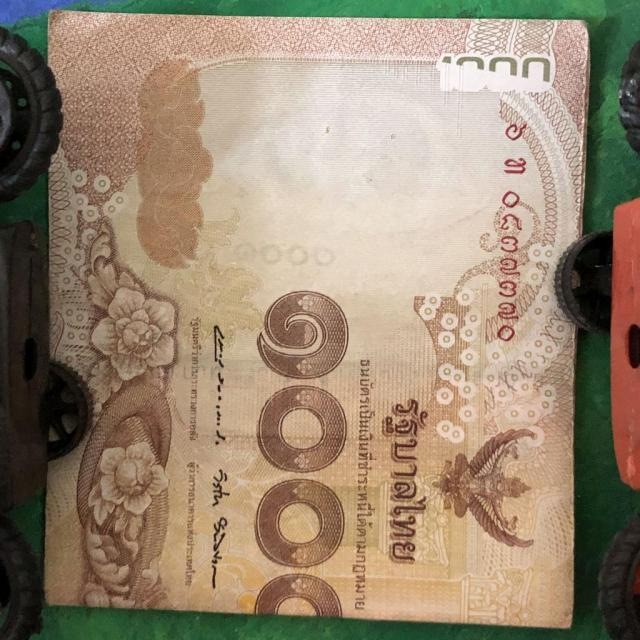THAI1000: (44, 12, 589, 628)
